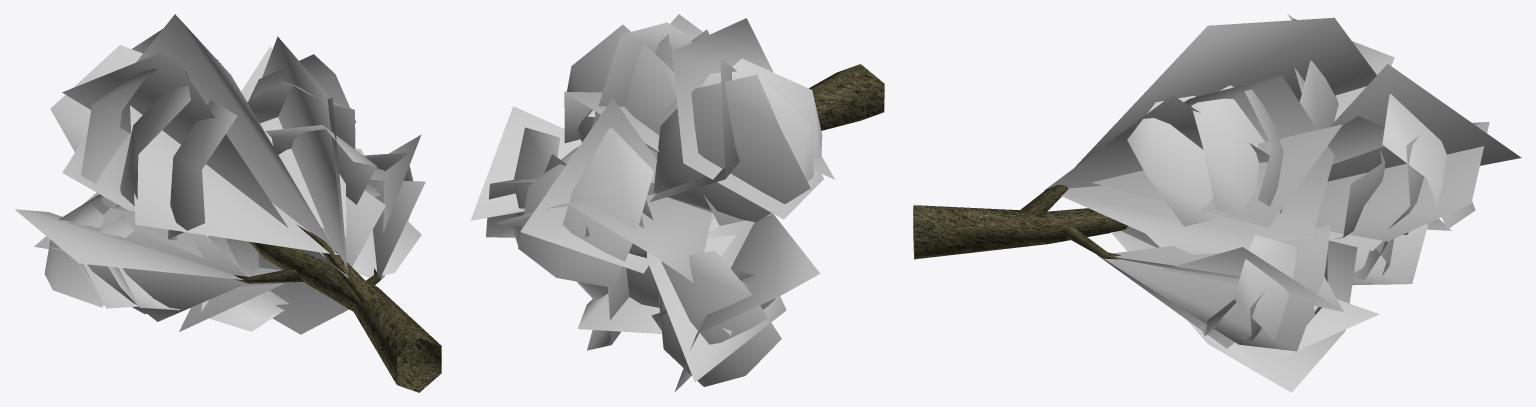
Rendered from MEP_Tree_04_e.fbx.
The picture shows the model from 3 angles, left to right: view 1: azimuth 30°, elevation 25°; view 2: azimuth 150°, elevation 25°; view 3: azimuth 270°, elevation 25°; orthographic projection. The views are drawn at different scales.
Parts seen in each view (by area): view 1: MEP_Leafs_04_e, MEP_Bark_04_e; view 2: MEP_Leafs_04_e, MEP_Bark_04_e; view 3: MEP_Leafs_04_e, MEP_Bark_04_e.
Part boxes in pixels (left/top/right/bottom): MEP_Leafs_04_e: left=15, top=14, right=425, bottom=334; MEP_Bark_04_e: left=233, top=225, right=441, bottom=392; MEP_Leafs_04_e: left=470, top=14, right=834, bottom=392; MEP_Bark_04_e: left=809, top=64, right=884, bottom=130; MEP_Leafs_04_e: left=1044, top=14, right=1521, bottom=392; MEP_Bark_04_e: left=913, top=184, right=1127, bottom=259.
Size of the model in its own units: 7.35 by 6.95 by 11.79.
